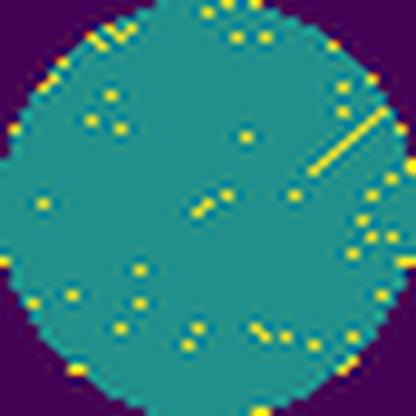Scratch: (302, 106, 390, 182)
